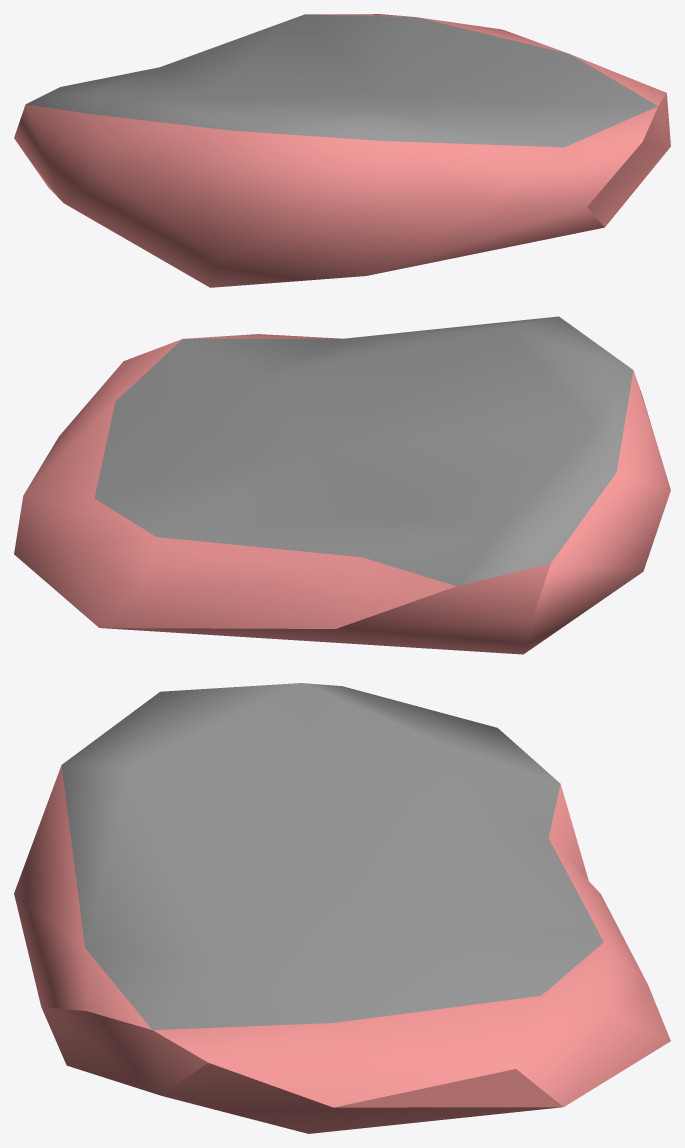
The model's file is deco_Doren_stone007.gltf.
3 renders of one model, top to bottom at view 1: azimuth 30°, elevation 25°; view 2: azimuth 150°, elevation 25°; view 3: azimuth 270°, elevation 25°, orthographic. The views are drawn at different scales.
Visible parts, largest first — view 1: deco_Doren_stone007; view 2: deco_Doren_stone007; view 3: deco_Doren_stone007.
Boxes of the visible parts, left/top/right/bottom form: deco_Doren_stone007: left=14, top=14, right=670, bottom=287; deco_Doren_stone007: left=14, top=316, right=670, bottom=654; deco_Doren_stone007: left=14, top=683, right=670, bottom=1133.
Size of the model in its own units: 1.81 by 0.4804 by 1.56.
